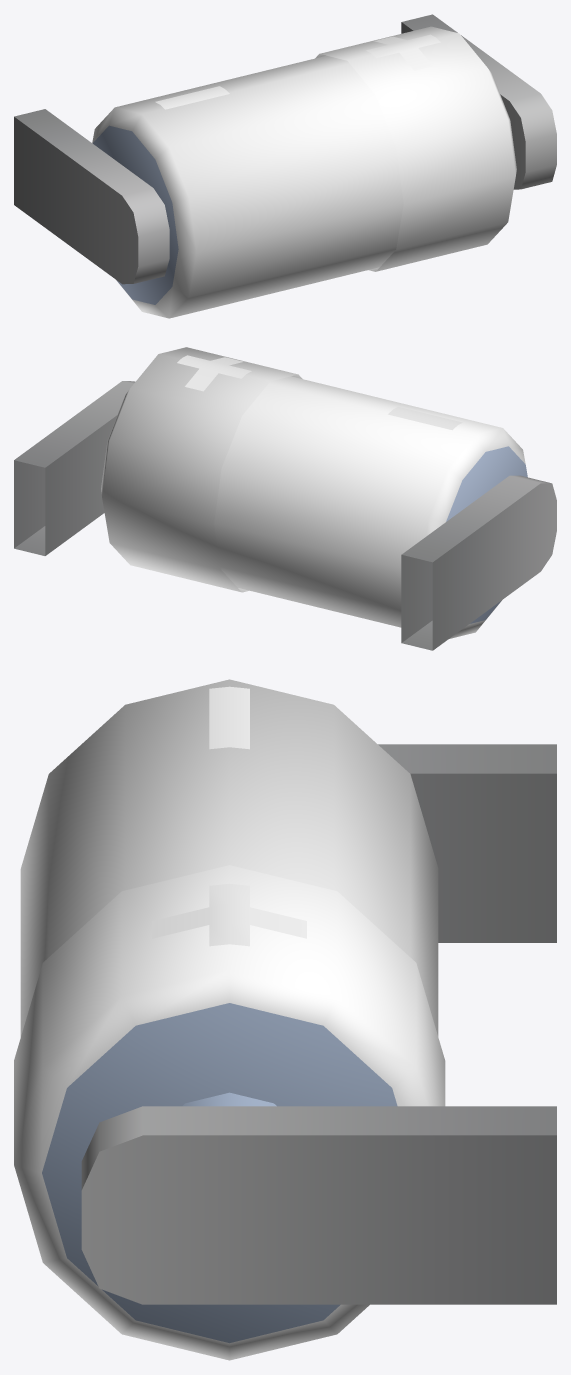
The model's file is Battary.fbx.
3 renders of one model, top to bottom at view 1: azimuth 30°, elevation 25°; view 2: azimuth 150°, elevation 25°; view 3: azimuth 270°, elevation 25°, orthographic. The views are drawn at different scales.
Parts seen in each view (by area): view 1: Battary; view 2: Battary; view 3: Battary.
Boxes of the visible parts, x1,y1,x2,y2 form: Battary: [14, 14, 556, 318]; Battary: [14, 347, 556, 650]; Battary: [14, 679, 556, 1360].
Bounding box in the file's own units: 1.08 × 0.5082 × 0.6344.
